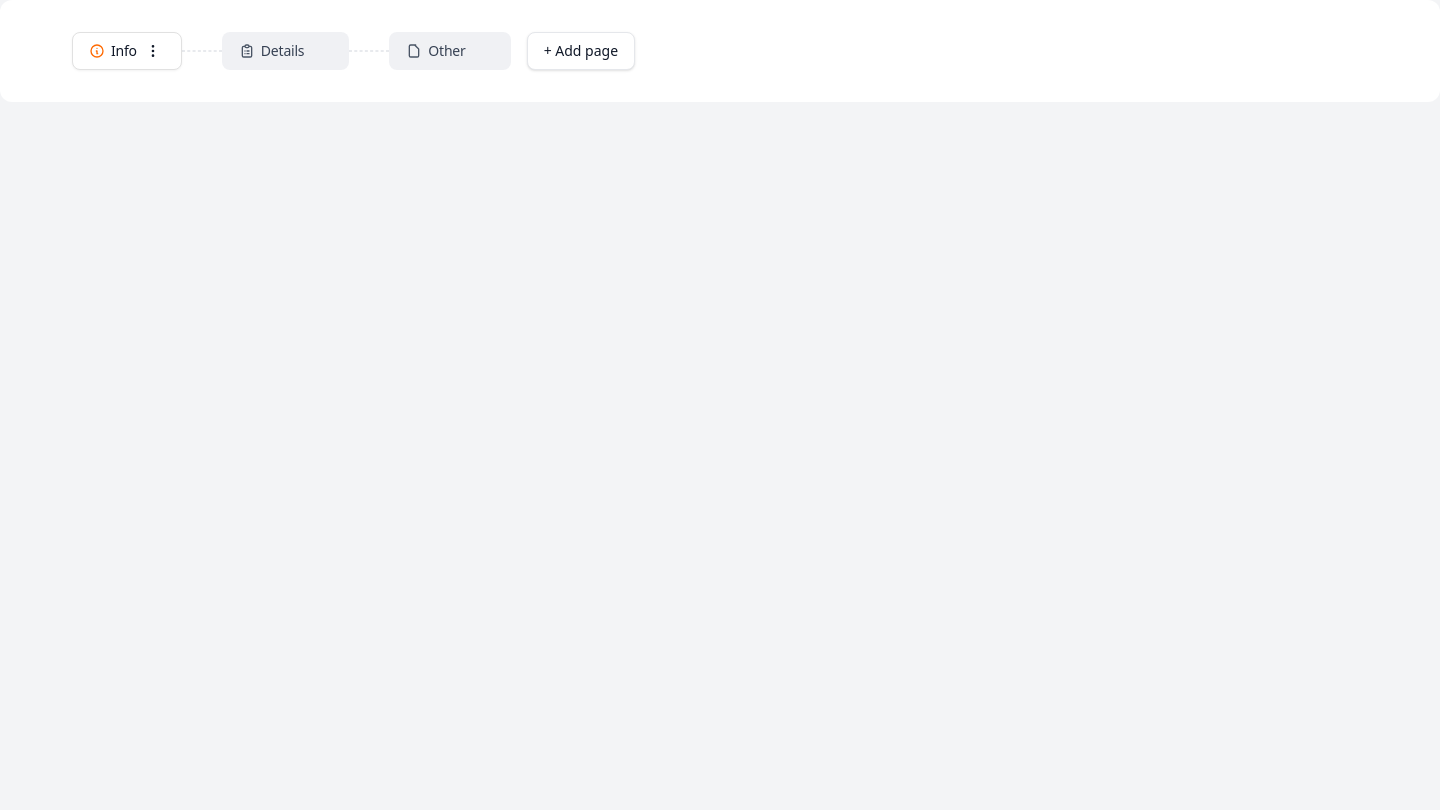
Test case: PageNavigationBar › closes the modal when you cancel
The image size is (1440, 810).
Click the button "+ Add page". click: [581, 51]
box: [527,32,635,70]
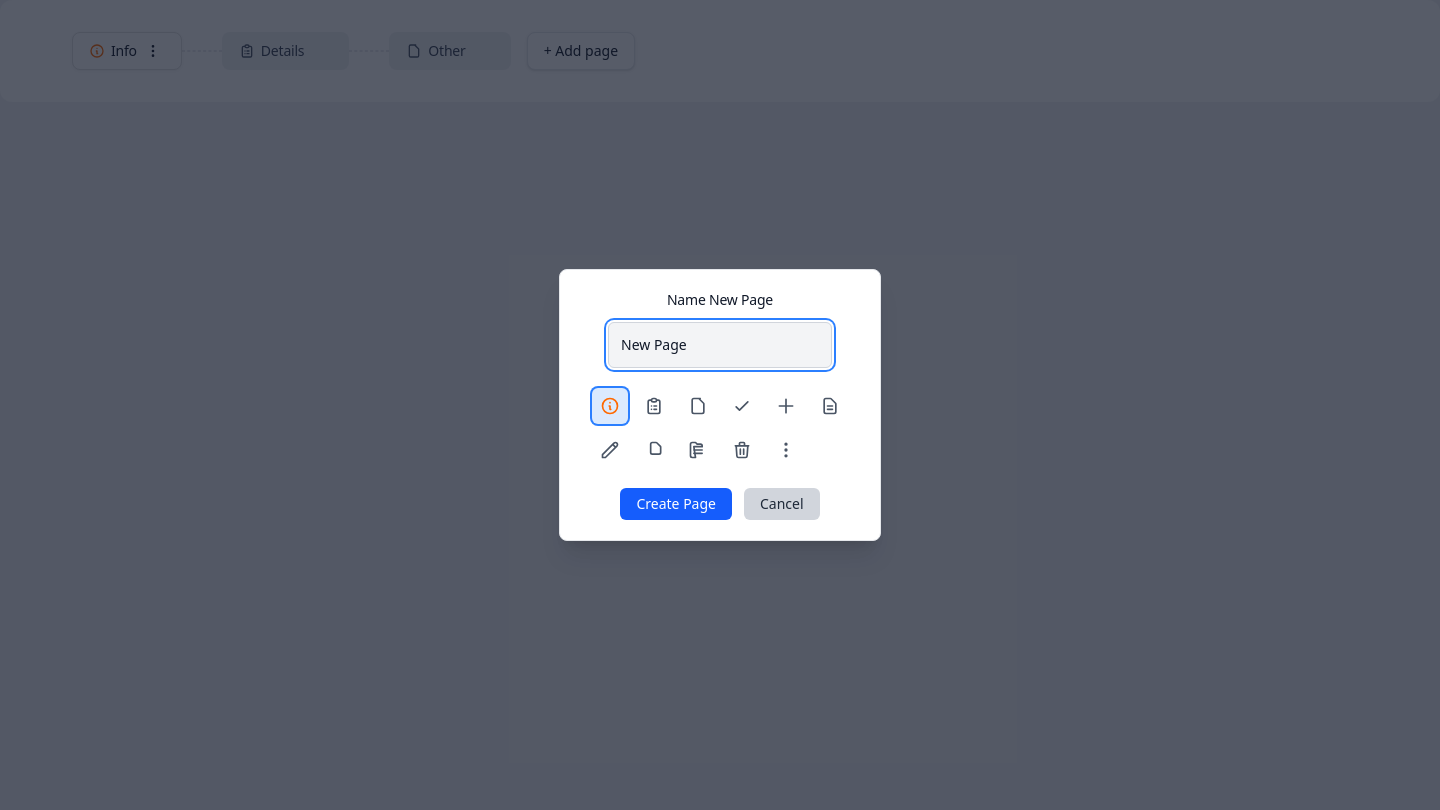
Click the button "Cancel". click: [782, 504]
box: [744,488,820,520]
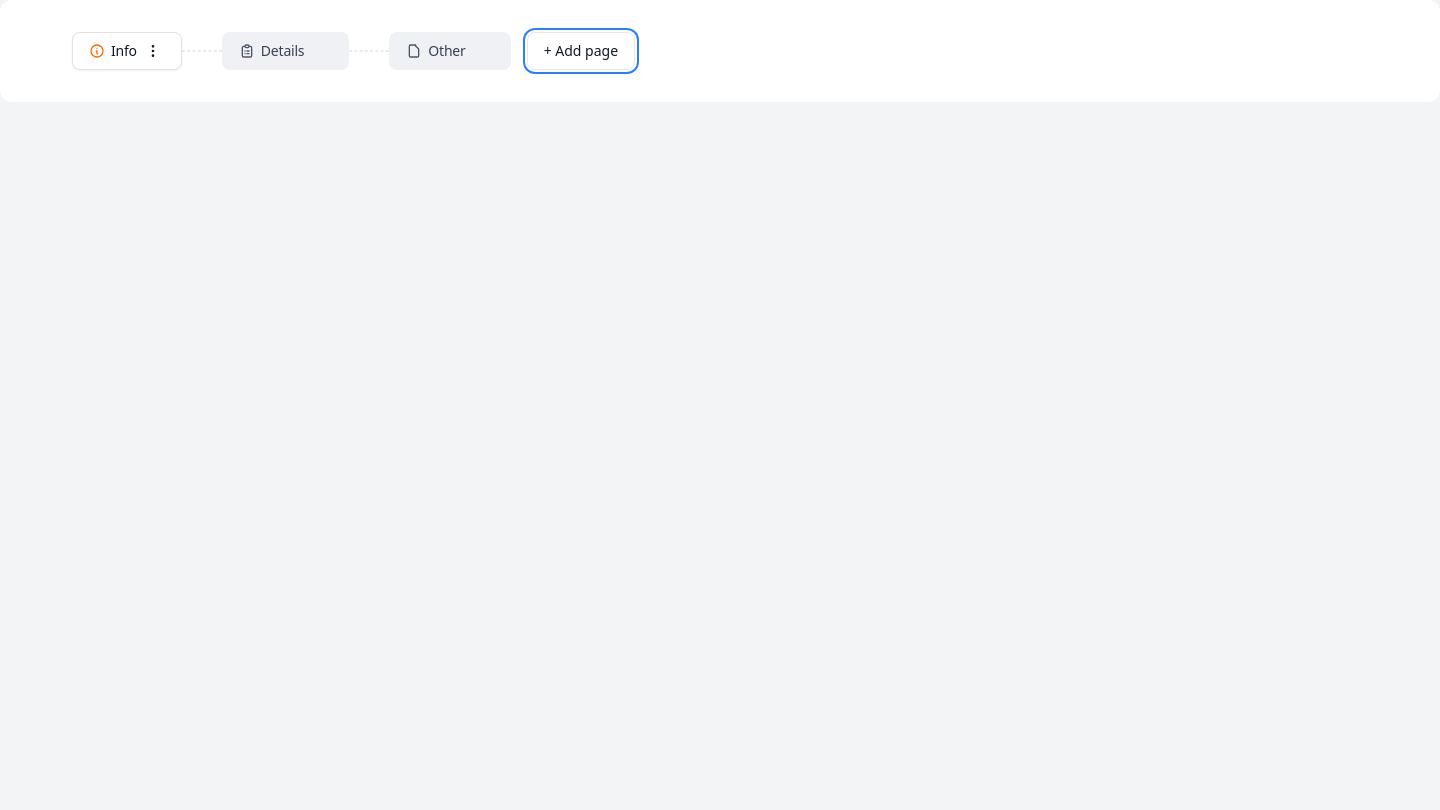
Check: the dialog is gone
